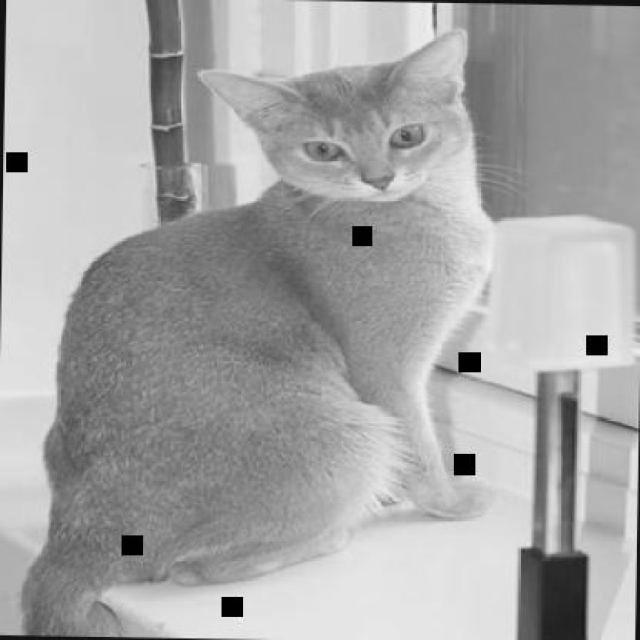Cat: (12, 19, 498, 638)
